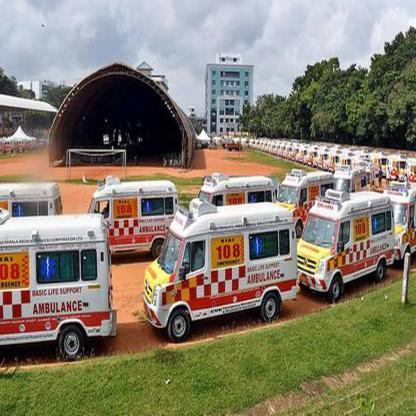Ambulance: (212, 234, 244, 268)
